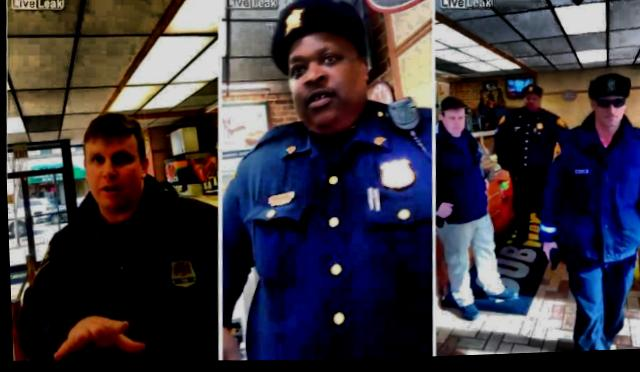pistol: (538, 243, 566, 286)
